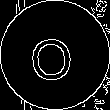O_N: (32, 28, 78, 82)
